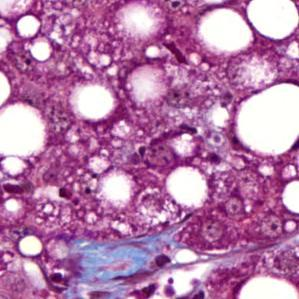steatosis: (198, 8, 253, 59)
